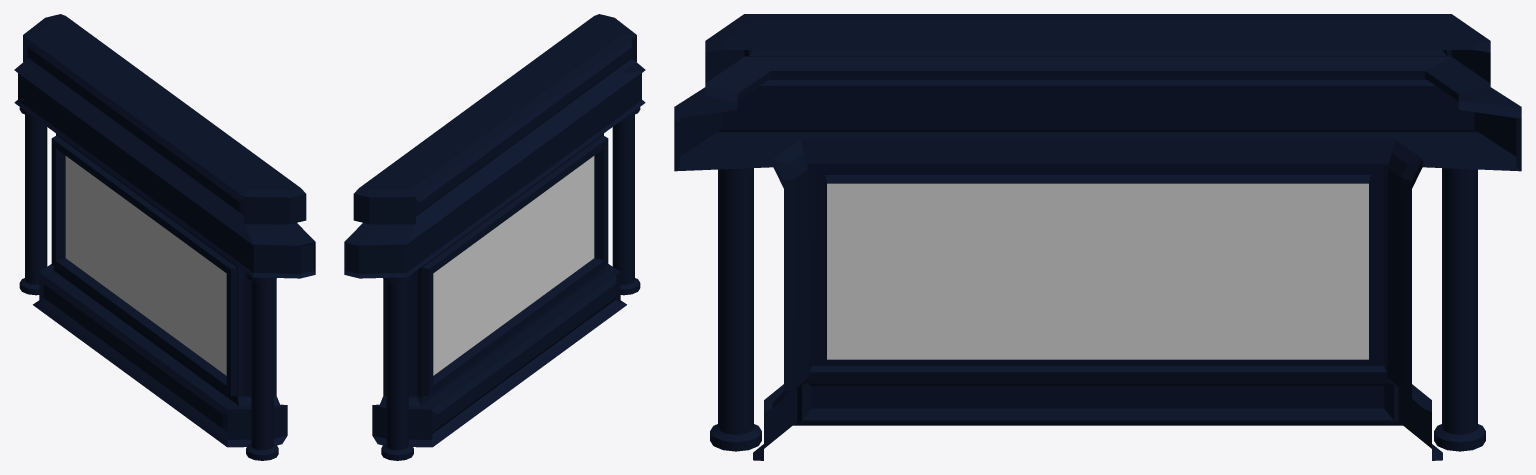
Rendered from Bücherrei_Außen_Fassade.fbx.
3 renders of one model, left to right at view 1: azimuth 30°, elevation 25°; view 2: azimuth 150°, elevation 25°; view 3: azimuth 270°, elevation 25°, orthographic. The views are drawn at different scales.
Visible parts, largest first — view 1: fassade 2.001; view 2: fassade 2.001; view 3: fassade 2.001.
Boxes of the visible parts, x1,y1,x2,y2 form: fassade 2.001: (14, 14, 315, 460); fassade 2.001: (344, 14, 645, 460); fassade 2.001: (674, 14, 1521, 460).
Size of the model in its own units: 403 by 1882 by 3460.
